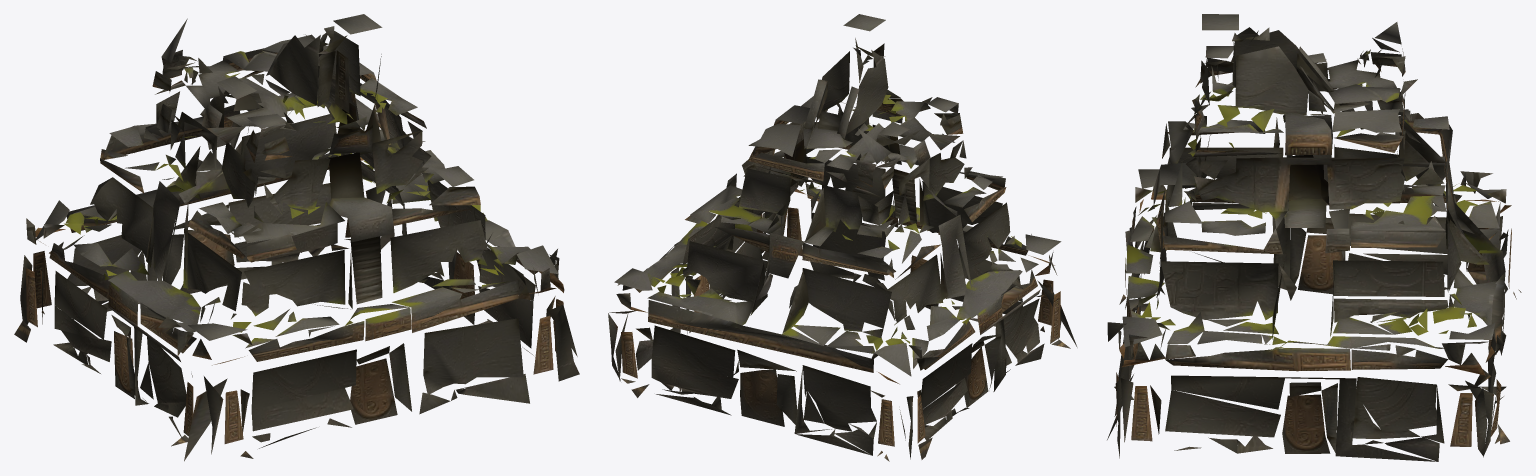
File: ch7_terraced_ruins_LOD3.glb
3 views of the same model, side by side, from view 1: azimuth 30°, elevation 25°; view 2: azimuth 150°, elevation 25°; view 3: azimuth 270°, elevation 25° (orthographic). The views are drawn at different scales.
Parts seen in each view (by area): view 1: tripo_node_85571fa6-29fd-4f36-8f6d-fa6e21ac3b30; view 2: tripo_node_85571fa6-29fd-4f36-8f6d-fa6e21ac3b30; view 3: tripo_node_85571fa6-29fd-4f36-8f6d-fa6e21ac3b30.
Boxes of the visible parts, bbox=[...] form: tripo_node_85571fa6-29fd-4f36-8f6d-fa6e21ac3b30: bbox=[14, 14, 579, 461]; tripo_node_85571fa6-29fd-4f36-8f6d-fa6e21ac3b30: bbox=[608, 14, 1077, 461]; tripo_node_85571fa6-29fd-4f36-8f6d-fa6e21ac3b30: bbox=[1107, 14, 1521, 461].
Bounding box in the file's own units: 1.02 × 0.9181 × 0.9485.
1 material, 1 textured.
